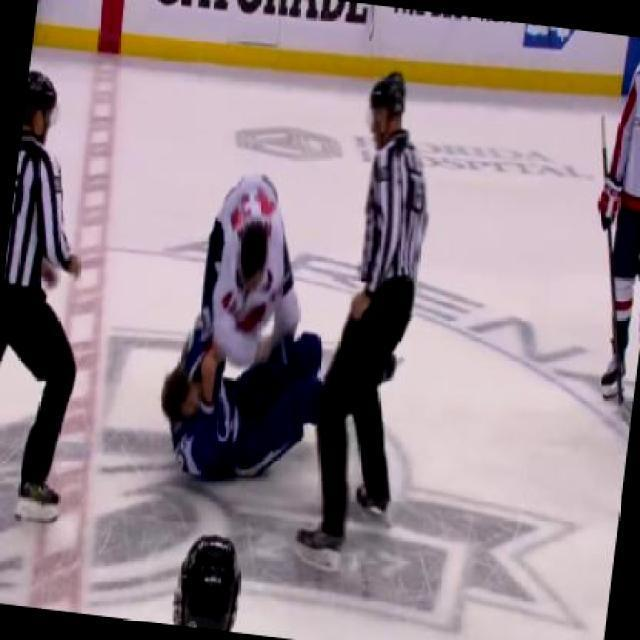fight: (148, 162, 330, 495)
non-fight: (298, 62, 447, 560), (0, 68, 114, 532), (574, 34, 638, 411)
